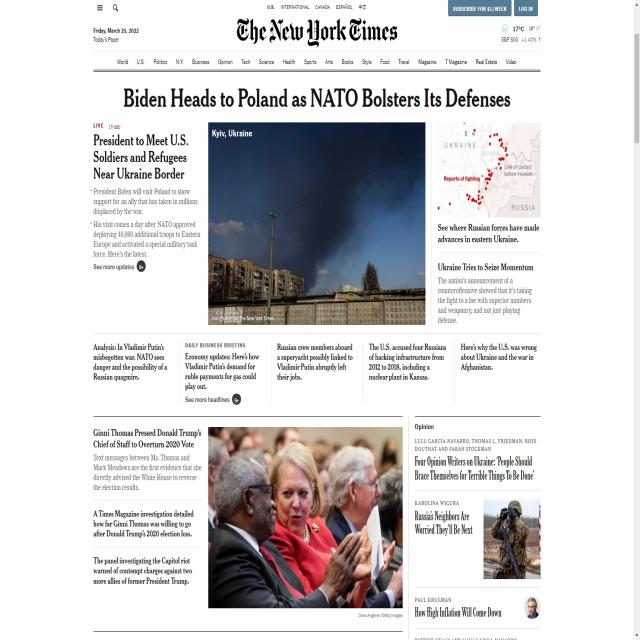menu-bar: (93, 52, 541, 71), (91, 1, 125, 17)
